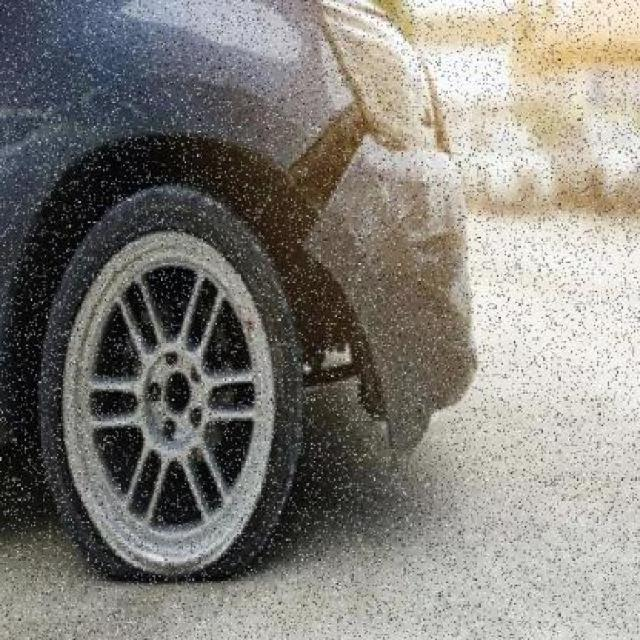fender-dent: (3, 0, 316, 349)
front-bumper-dent: (279, 49, 479, 490)
